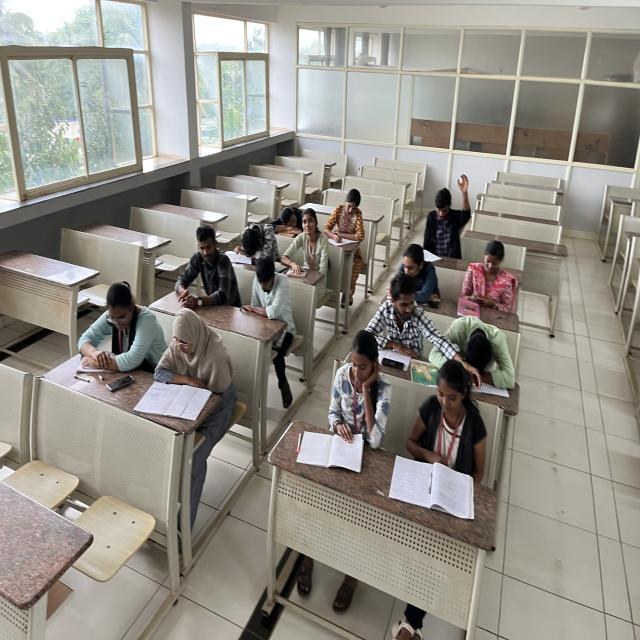Hand Rising: (423, 172, 477, 255)
Reading: (312, 332, 382, 469), (153, 299, 225, 409), (411, 355, 475, 473), (82, 279, 155, 376)
Sleeping: (432, 312, 518, 386), (232, 219, 286, 266), (268, 199, 310, 233)
Using Phone: (459, 242, 522, 314)
